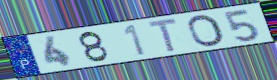1: (122, 23, 148, 57)
4: (43, 34, 73, 68)
5: (222, 7, 263, 43)
8: (77, 30, 110, 63)
O: (186, 14, 227, 49)
T: (146, 16, 180, 54)
